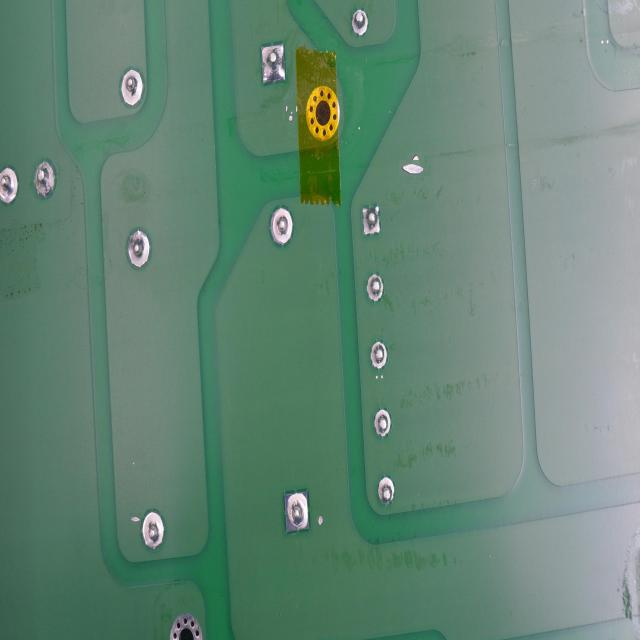spillover: (403, 156, 428, 180), (286, 102, 296, 122), (314, 512, 324, 527), (129, 514, 141, 526)
